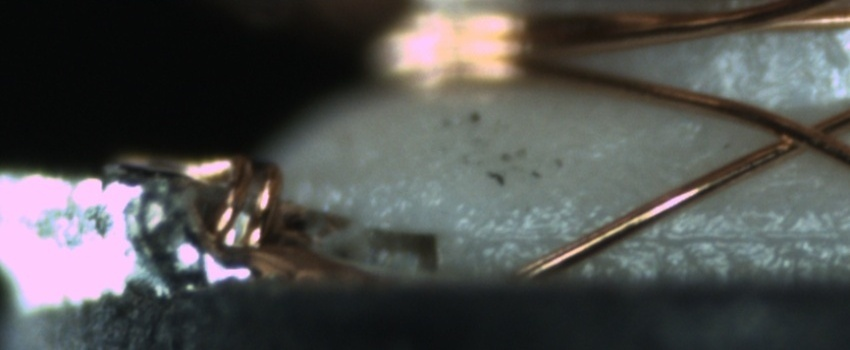CL: (757, 106, 845, 159)
DL: (471, 212, 849, 269)
TE: (147, 145, 287, 263)
